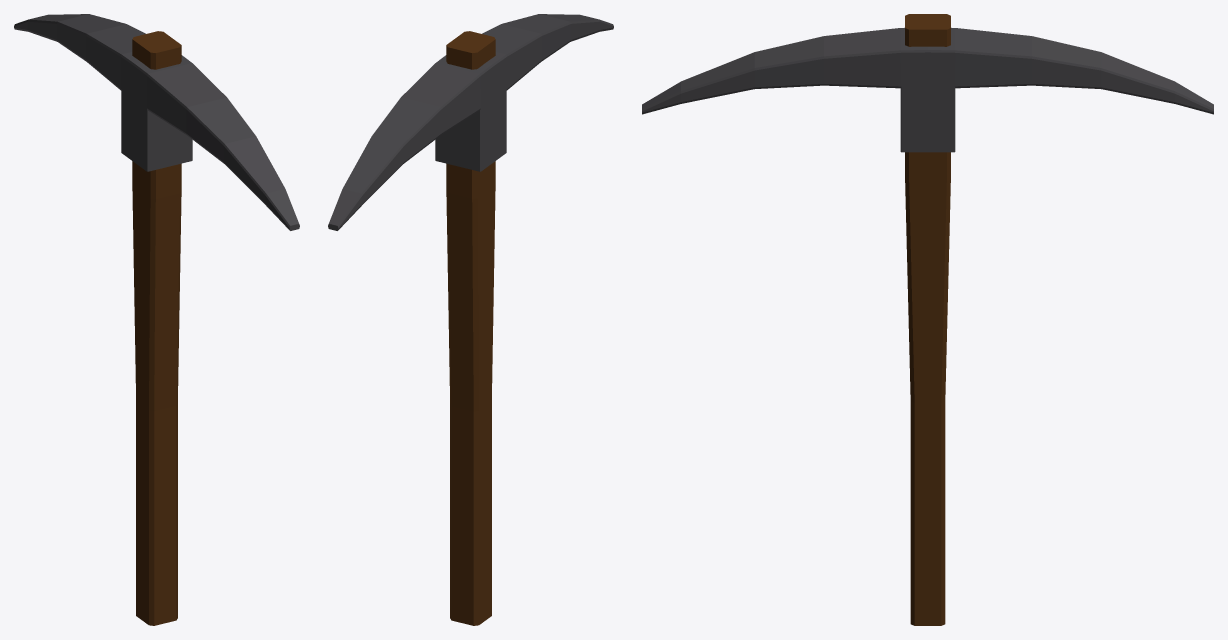
File: pickaxe.fbx
The picture shows the model from 3 angles, left to right: view 1: azimuth 30°, elevation 25°; view 2: azimuth 150°, elevation 25°; view 3: azimuth 270°, elevation 25°; orthographic projection. The views are drawn at different scales.
Parts seen in each view (by area): view 1: Cube, Cube.001; view 2: Cube, Cube.001; view 3: Cube.001, Cube.
Part boxes in pixels (box(x1,y1,x2,y2)): Cube: box(132, 31, 181, 625); Cube.001: box(14, 14, 299, 230); Cube: box(446, 31, 495, 625); Cube.001: box(328, 14, 613, 230); Cube.001: box(642, 27, 1213, 152); Cube: box(905, 14, 950, 625).
Size of the model in its own units: 317 by 3800 by 3301.
